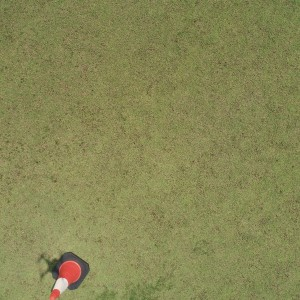traffic cone: (50, 252, 90, 300)
